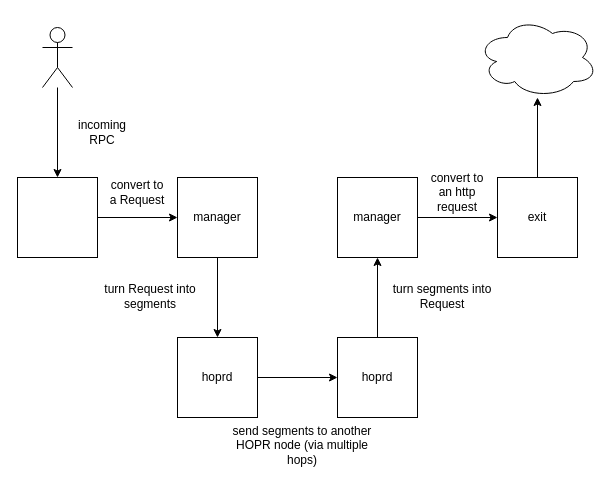
Some shapes in this 615 by 500 pixel diagram are drawn without their labels. Here are the shapes that lost their labels. From the top down, the centre of each, then its label:
At point 537,57: "RPC provider".
At point 57,217: "entry".
